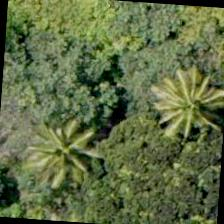Kelapa_Sawit: (16, 108, 112, 204), (136, 52, 223, 149)
